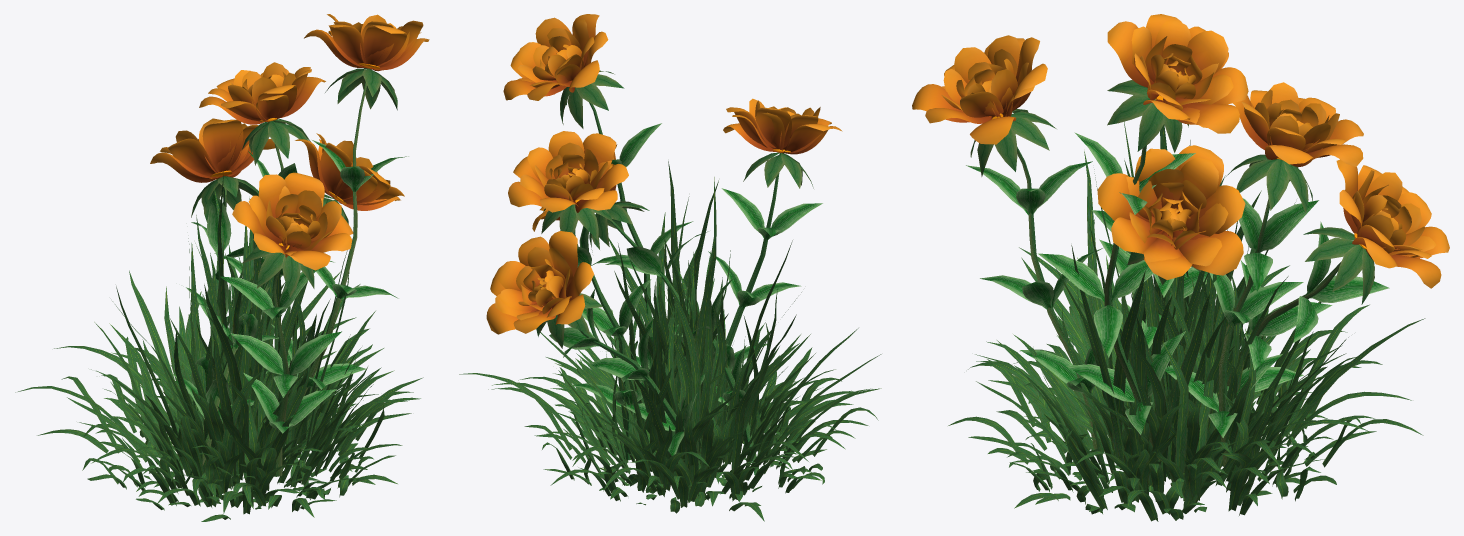
Rendered from carnation.glb.
3 renders of one model, left to right at view 1: azimuth 30°, elevation 25°; view 2: azimuth 150°, elevation 25°; view 3: azimuth 270°, elevation 25°, orthographic. The views are drawn at different scales.
Parts seen in each view (by area): view 1: Roses_Orange; view 2: Roses_Orange; view 3: Roses_Orange.
Part boxes in pixels (x1,y1,x2,y2): Roses_Orange: (15, 14, 429, 521); Roses_Orange: (459, 14, 881, 521); Roses_Orange: (912, 14, 1449, 521).
Size of the model in its own units: 94.92 by 107 by 102.
5 materials, 5 textured.
